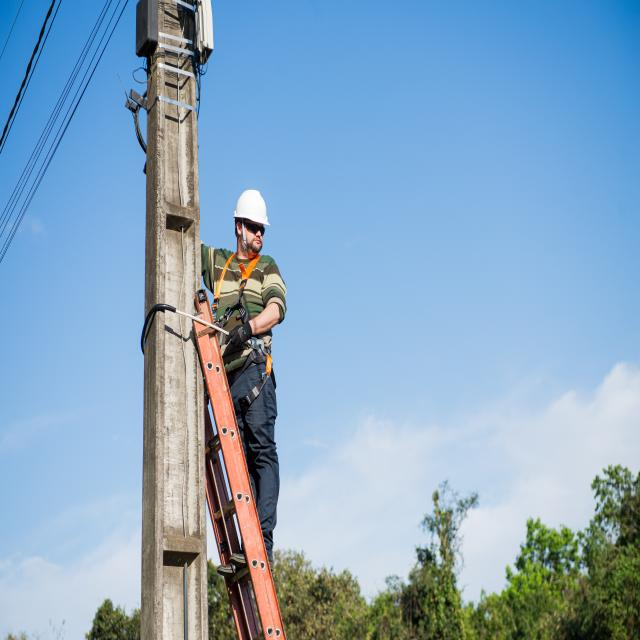capacete: (233, 189, 270, 229)
corda de vida: (211, 250, 277, 420)
luva: (224, 321, 253, 352)
